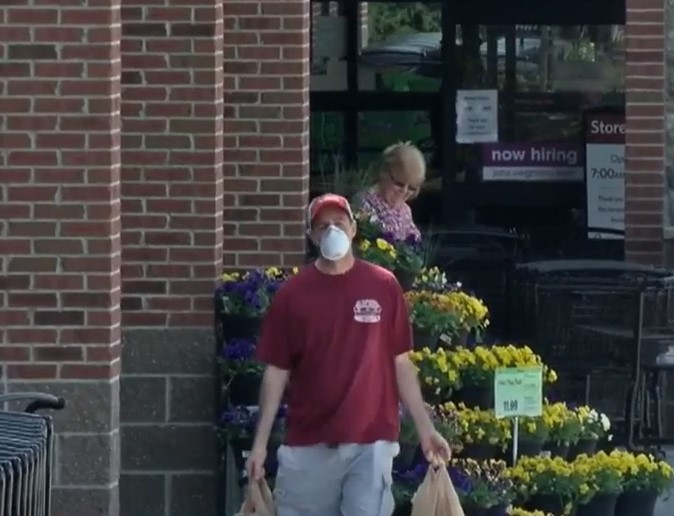face_no_mask: (379, 141, 424, 211)
face_with_mask: (304, 192, 359, 265)
